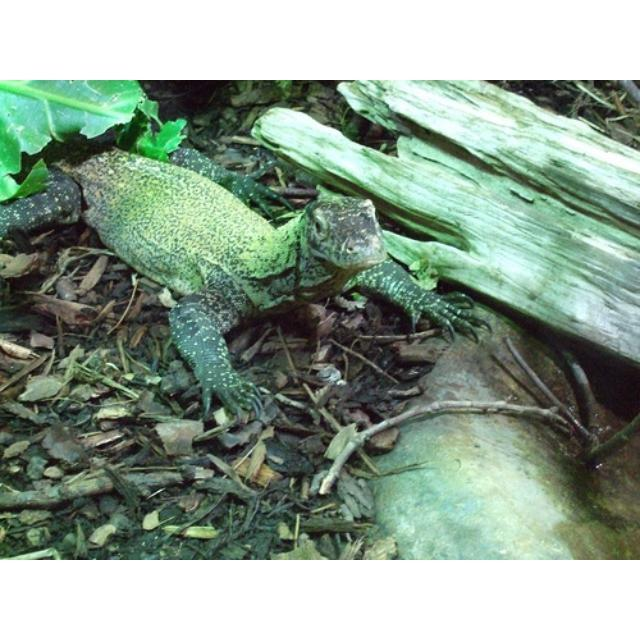KomodoDragon: (0, 138, 494, 427)
